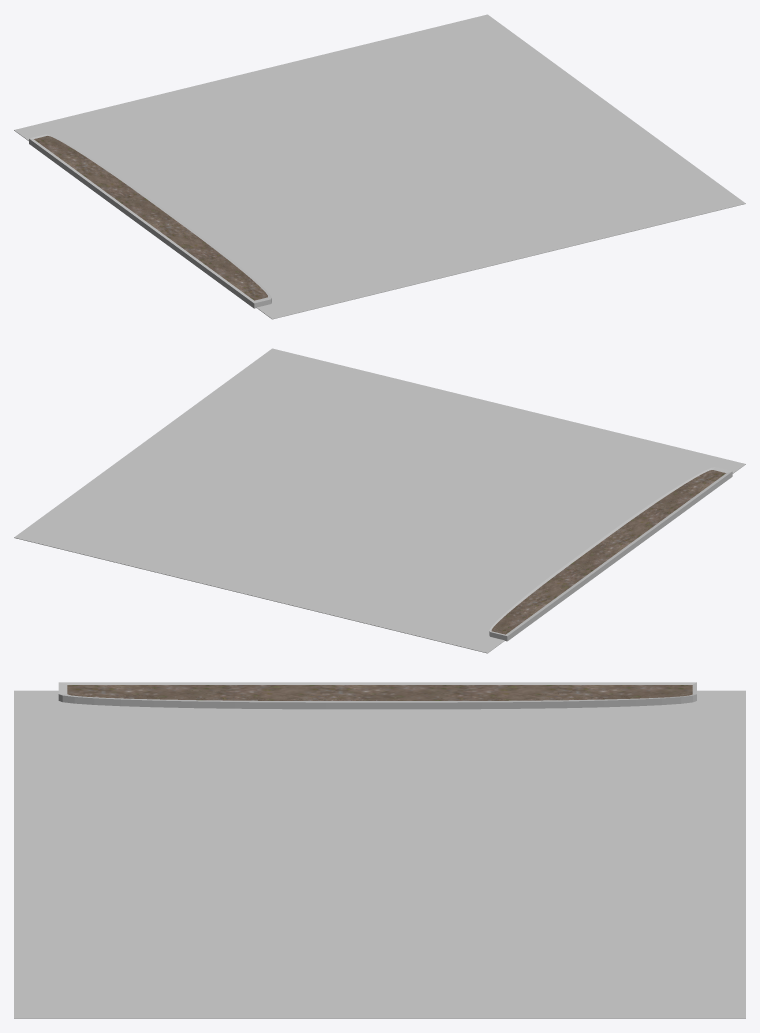
File: parkiran.fbx
3 renders of one model, top to bottom at view 1: azimuth 30°, elevation 25°; view 2: azimuth 150°, elevation 25°; view 3: azimuth 270°, elevation 25°, orthographic. The views are drawn at different scales.
Parts seen in each view (by area): view 1: Cube.020, Cube.023; view 2: Cube.020, Cube.023; view 3: Cube.020, Cube.023.
Boxes of the visible parts, x1,y1,x2,y2 form: Cube.020: [14, 14, 745, 319]; Cube.023: [29, 134, 271, 308]; Cube.020: [14, 348, 745, 653]; Cube.023: [489, 467, 732, 641]; Cube.020: [14, 690, 745, 1018]; Cube.023: [58, 682, 696, 709].
Bounding box in the file's own units: 1085 × 11.48 × 1020.
